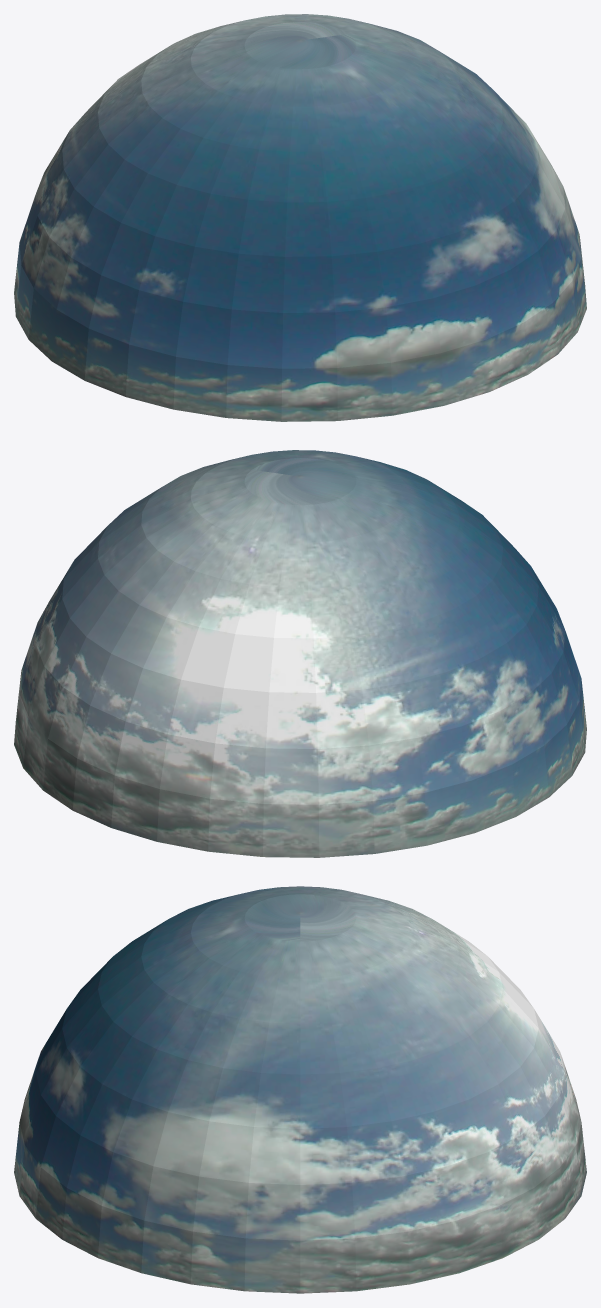
The model's file is skydome.obj.
The picture shows the model from 3 angles, top to bottom: view 1: azimuth 30°, elevation 25°; view 2: azimuth 150°, elevation 25°; view 3: azimuth 270°, elevation 25°; orthographic projection.
Visible parts, largest first — view 1: Sphere; view 2: Sphere; view 3: Sphere.
Boxes of the visible parts, x1,y1,x2,y2 form: Sphere: [14, 14, 586, 421]; Sphere: [14, 450, 586, 857]; Sphere: [14, 886, 586, 1293].
Size of the model in its own units: 1000 by 500 by 1000.
